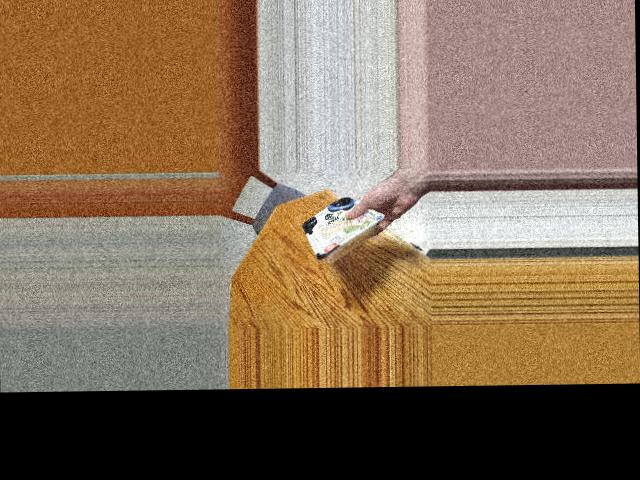cheese: (296, 194, 379, 276)
